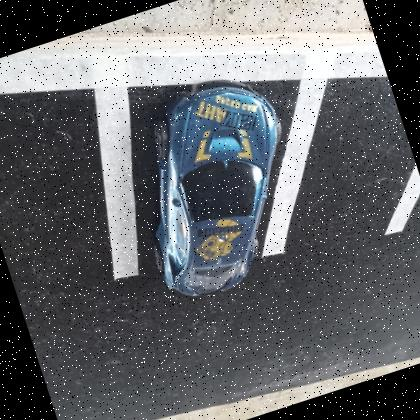Car: (154, 82, 279, 295)
